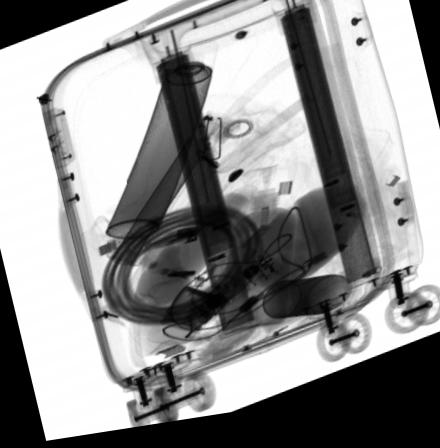Sprayer: (105, 44, 216, 243)
